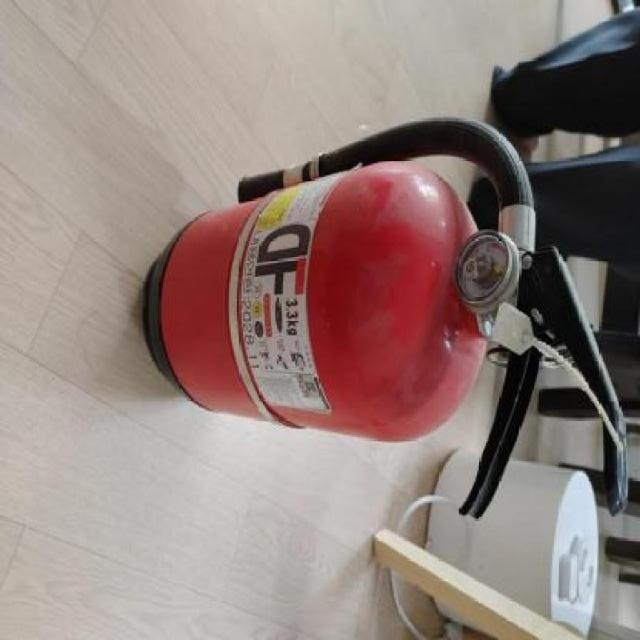fire extinguisher: (145, 113, 629, 521)
